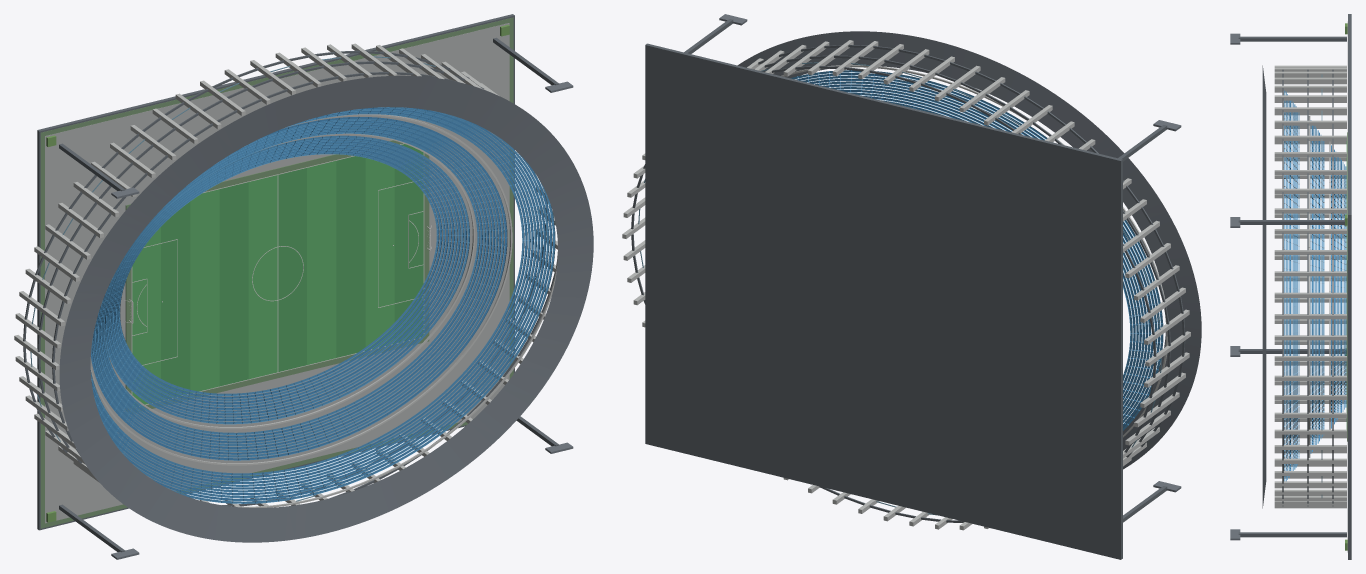
File: stadium_level_5.glb
The picture shows the model from 3 angles, left to right: view 1: azimuth 30°, elevation 25°; view 2: azimuth 150°, elevation 25°; view 3: azimuth 270°, elevation 25°; orthographic projection. The views are drawn at different scales.
Parts seen in each view (by area): view 1: paving, roof, blue2, blue, grass3, grass2, concrete, dark, ground, white; view 2: dark, roof, concrete, blue2, blue; view 3: concrete, dark, blue2, blue, roof, paving, glass, ground, grass.
Boxes of the visible parts, x1=… form: paving: x1=45, y1=23, x2=509, y2=523; roof: x1=59, y1=75, x2=593, y2=559; blue2: x1=90, y1=107, x2=555, y2=503; blue: x1=91, y1=107, x2=552, y2=500; grass3: x1=161, y1=144, x2=423, y2=400; grass2: x1=132, y1=158, x2=394, y2=407; concrete: x1=14, y1=43, x2=557, y2=507; dark: x1=23, y1=14, x2=559, y2=552; ground: x1=40, y1=17, x2=513, y2=528; white: x1=124, y1=143, x2=431, y2=406; dark: x1=631, y1=19, x2=1185, y2=559; roof: x1=719, y1=14, x2=1201, y2=492; concrete: x1=622, y1=40, x2=1190, y2=530; blue2: x1=790, y1=70, x2=1163, y2=430; blue: x1=796, y1=73, x2=1160, y2=426; concrete: x1=1274, y1=65, x2=1346, y2=508; dark: x1=1238, y1=14, x2=1351, y2=559; blue2: x1=1284, y1=90, x2=1346, y2=481; blue: x1=1286, y1=91, x2=1344, y2=481; roof: x1=1230, y1=33, x2=1266, y2=540; paving: x1=1347, y1=21, x2=1347, y2=552; glass: x1=1321, y1=74, x2=1322, y2=497; ground: x1=1347, y1=132, x2=1347, y2=441; grass: x1=1346, y1=141, x2=1346, y2=429.
Size of the model in its own units: 192 by 154 by 43.7.
